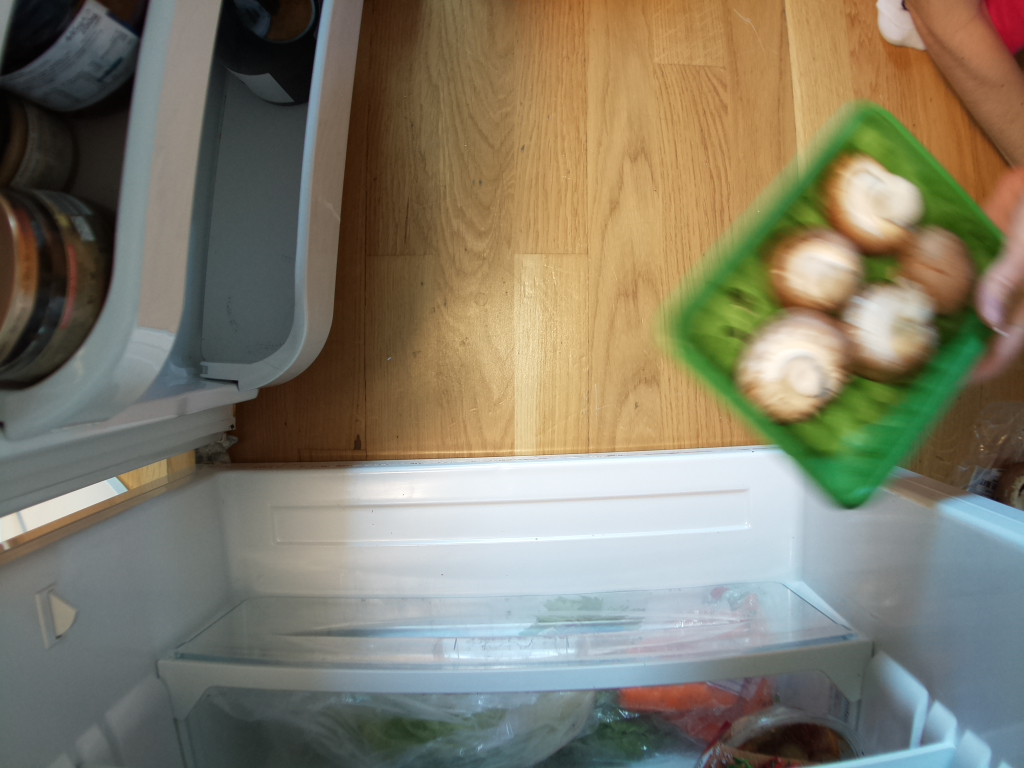mushrooms: (669, 109, 1013, 514)
